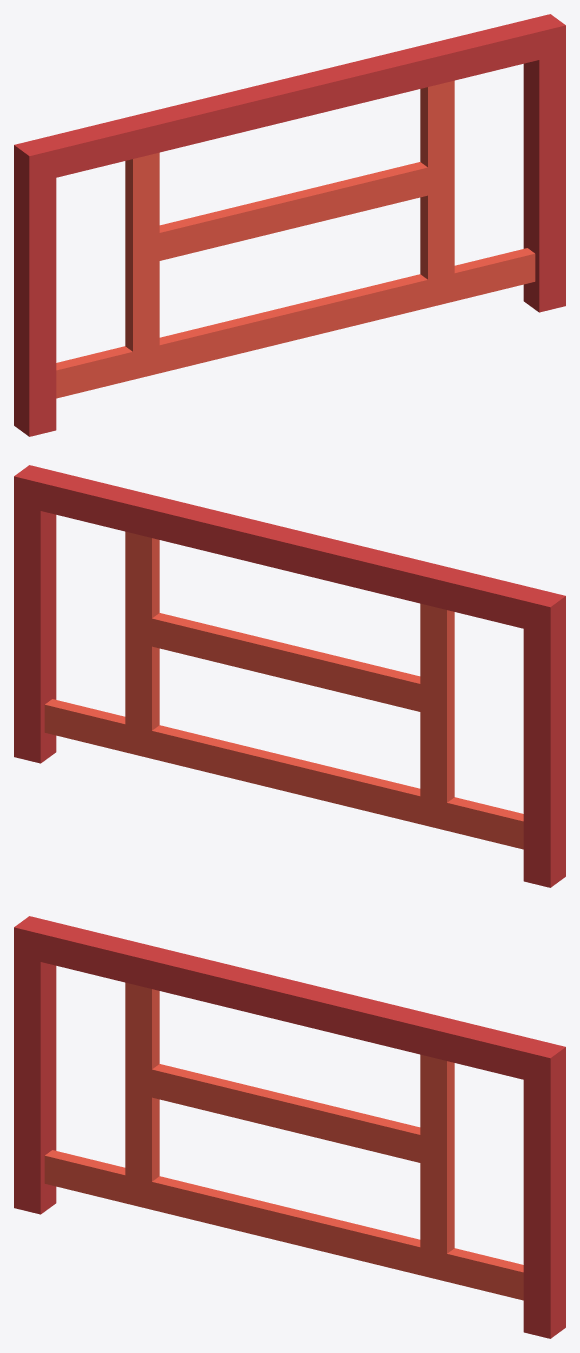
Rendered from HangarFence.fbx.
The picture shows the model from 3 angles, top to bottom: view 1: azimuth 30°, elevation 25°; view 2: azimuth 150°, elevation 25°; view 3: azimuth 330°, elevation 25°; orthographic projection.
Parts seen in each view (by area): view 1: mergedBlocks; view 2: mergedBlocks; view 3: mergedBlocks.
Part boxes in pixels (x1=…): mergedBlocks: x1=14, y1=14, x2=565, y2=436; mergedBlocks: x1=14, y1=465, x2=565, y2=887; mergedBlocks: x1=14, y1=916, x2=565, y2=1338.
Size of the model in its own units: 30 by 15 by 1.5.
